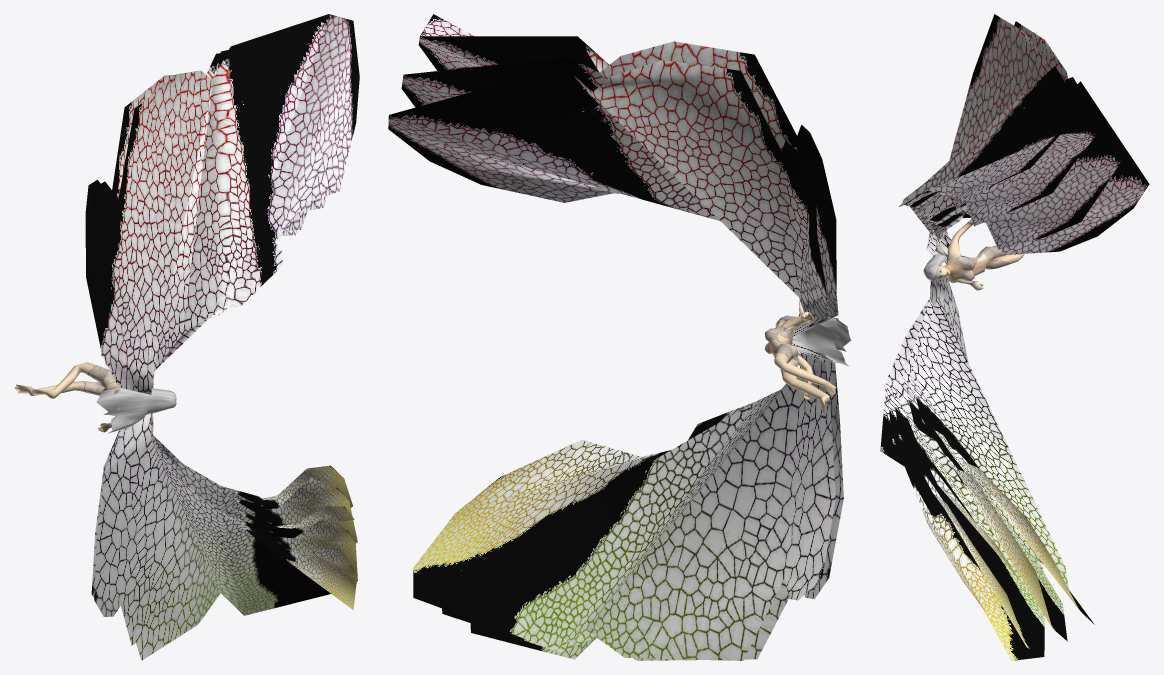
The model's file is angel_000224.obj.
3 views of the same model, side by side, from view 1: azimuth 30°, elevation 25°; view 2: azimuth 150°, elevation 25°; view 3: azimuth 270°, elevation 25° (orthographic). The views are drawn at different scales.
Parts seen in each view (by area): view 1: wings_Plane.001, hair.003_omino.013, body.001_omino.012; view 2: wings_Plane.001, body.001_omino.012, hair.003_omino.013; view 3: wings_Plane.001, body.001_omino.012, hair.003_omino.013.
Part boxes in pixels (left/top/right/bottom): wings_Plane.001: left=85, top=14, right=359, bottom=660; hair.003_omino.013: left=96, top=388, right=176, bottom=433; body.001_omino.012: left=14, top=354, right=154, bottom=432; wings_Plane.001: left=388, top=14, right=843, bottom=660; body.001_omino.012: left=764, top=300, right=836, bottom=413; hair.003_omino.013: left=775, top=315, right=851, bottom=366; wings_Plane.001: left=880, top=14, right=1149, bottom=660; body.001_omino.012: left=935, top=219, right=1024, bottom=293; hair.003_omino.013: left=923, top=231, right=947, bottom=280.
Size of the model in its own units: 6.75 by 10.41 by 4.62.
